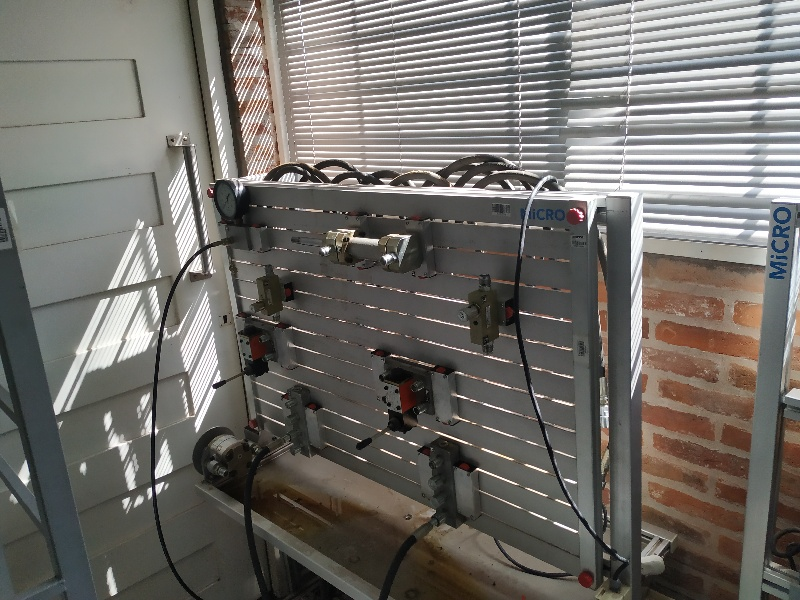Tablero 5: (205, 178, 594, 583)
